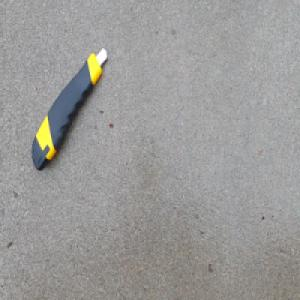Cutter: (30, 48, 108, 174)
